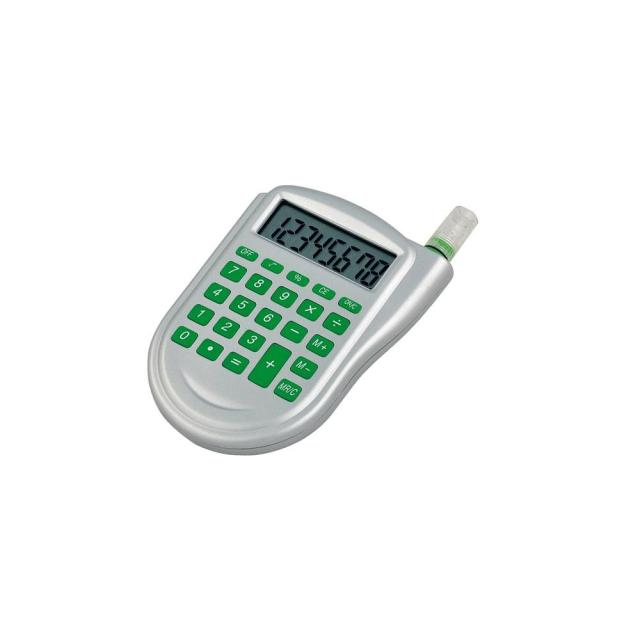Calculator: (130, 123, 525, 490)
